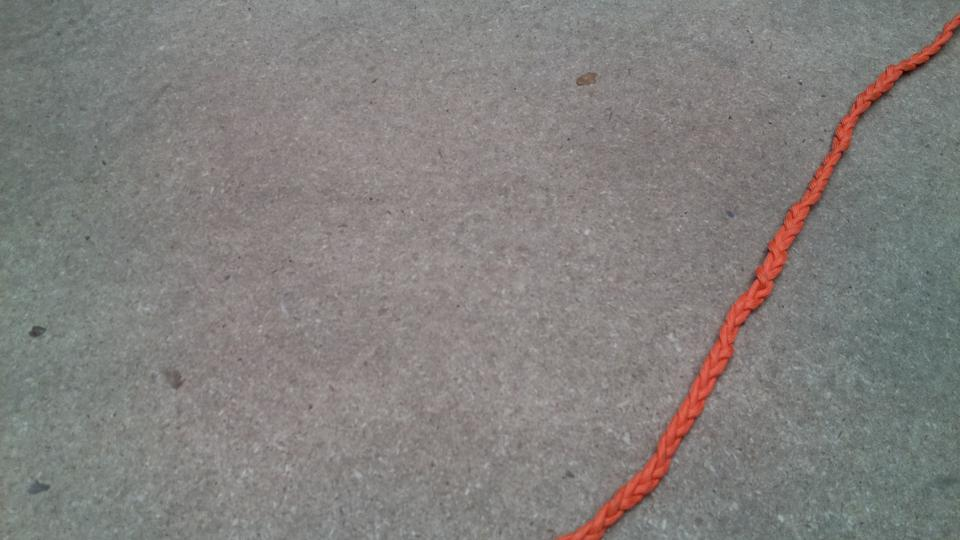rope: (588, 21, 960, 533)
